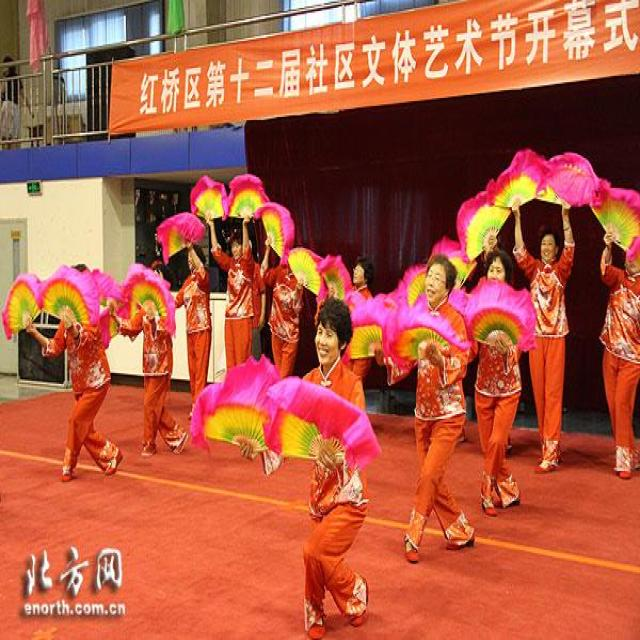non-fight: (239, 298, 371, 635), (383, 250, 480, 559), (32, 266, 121, 473), (511, 195, 570, 475), (111, 259, 179, 452), (594, 237, 639, 477)
